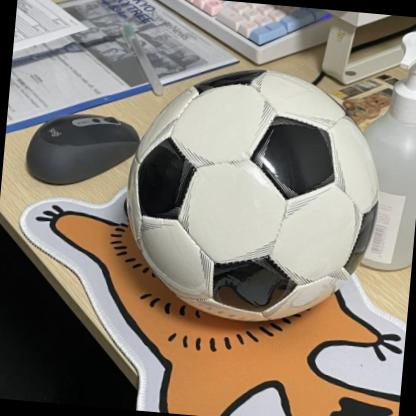ball: (115, 60, 388, 334)
